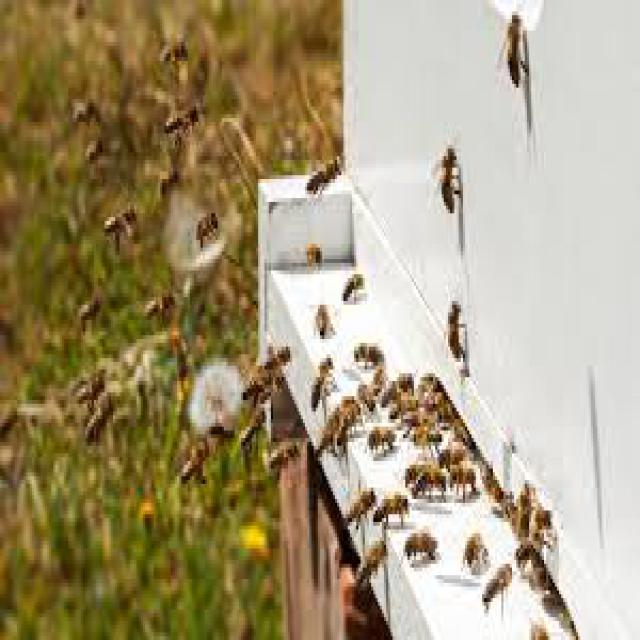Abeille: (352, 528, 397, 604), (497, 15, 536, 93), (430, 134, 465, 212), (441, 294, 472, 381), (444, 452, 488, 512), (400, 522, 445, 580), (306, 141, 348, 203), (175, 426, 214, 492), (234, 390, 269, 462), (102, 196, 142, 254), (307, 348, 339, 420), (362, 408, 402, 464), (162, 98, 205, 148), (340, 474, 376, 529), (370, 482, 409, 530), (262, 331, 293, 387), (74, 364, 107, 414), (350, 331, 390, 369), (145, 280, 178, 325), (340, 257, 370, 304), (193, 205, 221, 250)
